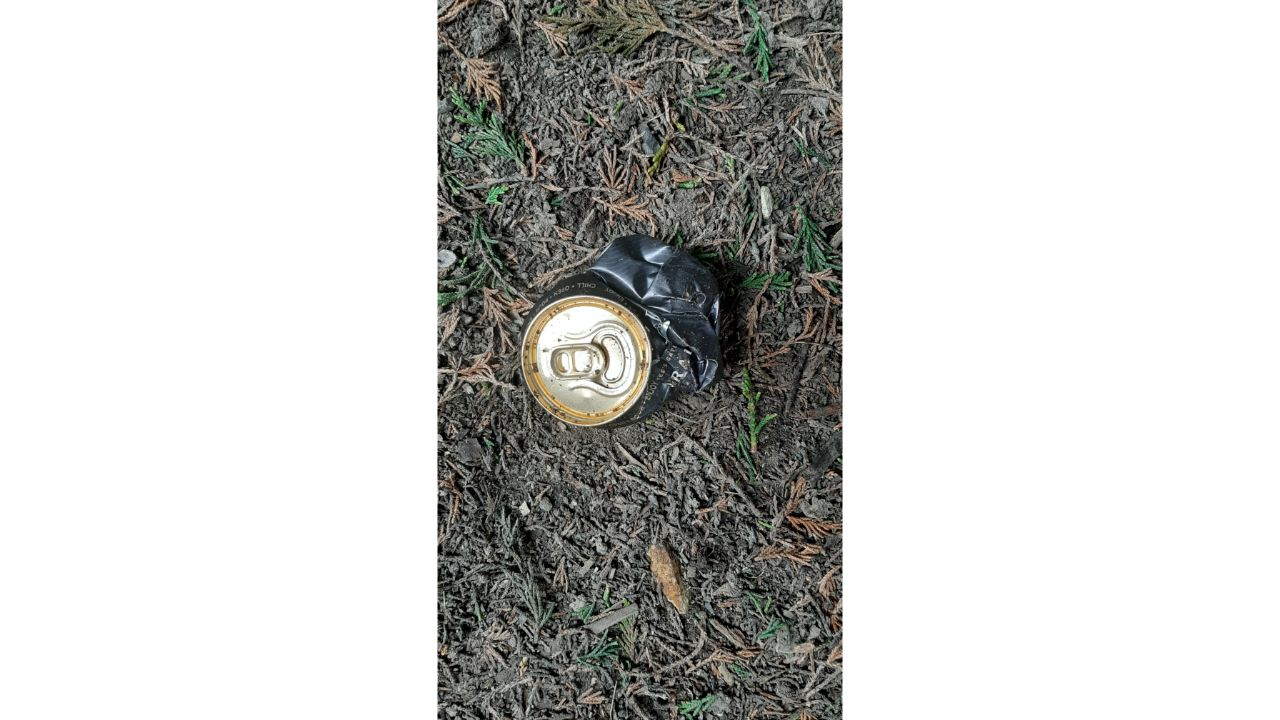Can: (519, 236, 726, 431)
